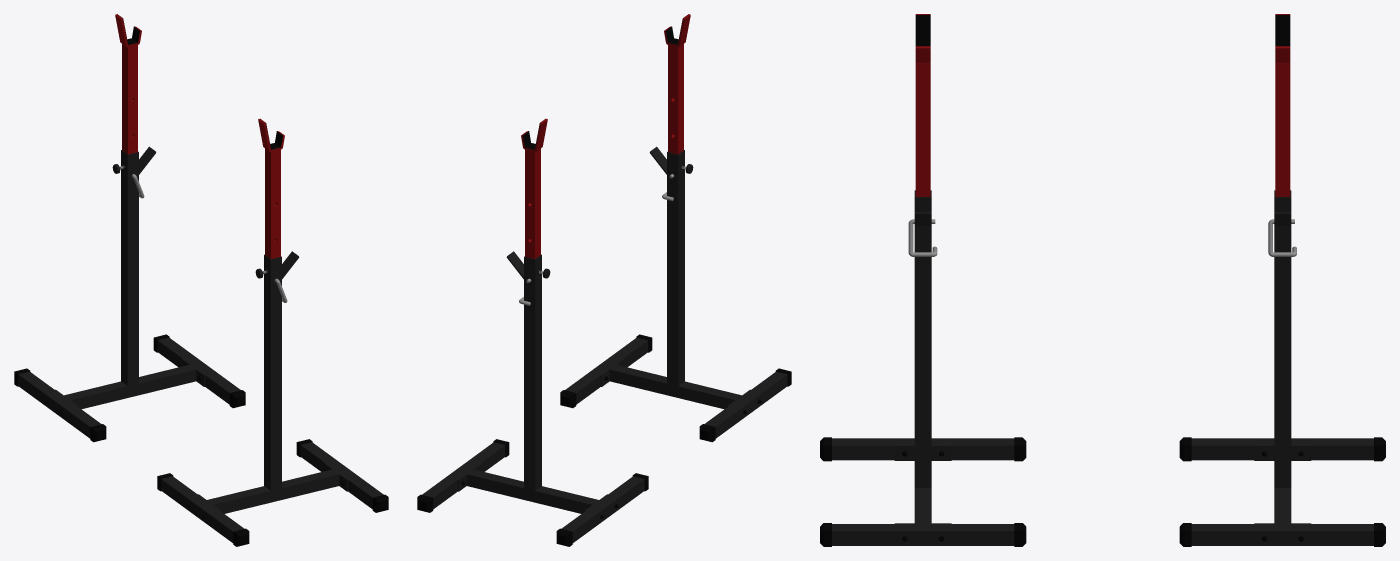
File: PullUpObject.glb
3 views of the same model, side by side, from view 1: azimuth 30°, elevation 25°; view 2: azimuth 150°, elevation 25°; view 3: azimuth 270°, elevation 25° (orthographic). The views are drawn at different scales.
Parts seen in each view (by area): view 1: Kostka, Kostka010, Kostka001, Kostka011, Kostka002, Kostka012, Kostka004, Kostka013, Kostka014, Kostka003; view 2: Kostka010, Kostka, Kostka011, Kostka001, Kostka002, Kostka012, Kostka013, Kostka004, Kostka003, Kostka014; view 3: Kostka010, Kostka, Kostka014, Kostka003, Kostka013, Kostka004, Kostka002, Kostka012, Kostka011, Kostka001.
Boxes of the visible parts, x1,y1,x2,y2 form: Kostka: [121, 146, 156, 385]; Kostka010: [264, 251, 299, 490]; Kostka001: [55, 358, 205, 409]; Kostka011: [198, 463, 348, 513]; Kostka002: [115, 14, 141, 154]; Kostka012: [258, 119, 284, 259]; Kostka004: [18, 371, 101, 438]; Kostka013: [161, 476, 244, 542]; Kostka014: [300, 442, 383, 508]; Kostka003: [157, 337, 240, 404]; Kostka010: [649, 146, 684, 385]; Kostka: [506, 251, 541, 490]; Kostka011: [600, 358, 750, 409]; Kostka001: [457, 463, 607, 513]; Kostka002: [521, 119, 547, 259]; Kostka012: [664, 14, 690, 154]; Kostka013: [704, 371, 787, 438]; Kostka004: [561, 476, 644, 542]; Kostka003: [422, 442, 505, 508]; Kostka014: [565, 337, 648, 404]; Kostka010: [914, 190, 931, 487]; Kostka: [1274, 190, 1291, 487]; Kostka014: [832, 524, 1014, 545]; Kostka003: [1191, 524, 1373, 545]; Kostka013: [832, 438, 1014, 460]; Kostka004: [1191, 438, 1373, 460]; Kostka002: [1275, 14, 1290, 196]; Kostka012: [915, 14, 930, 196]; Kostka011: [894, 445, 951, 523]; Kostka001: [1254, 445, 1311, 523].
Size of the model in its own units: 45.54 by 106 by 113.
